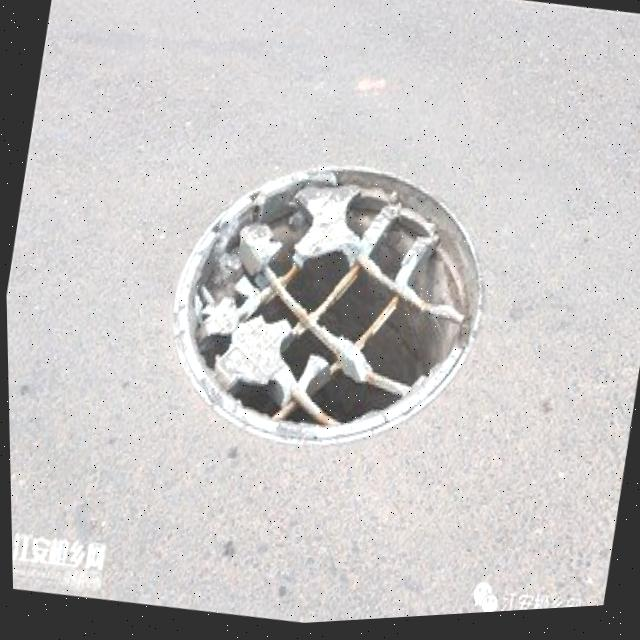manhole: (143, 125, 506, 484)
